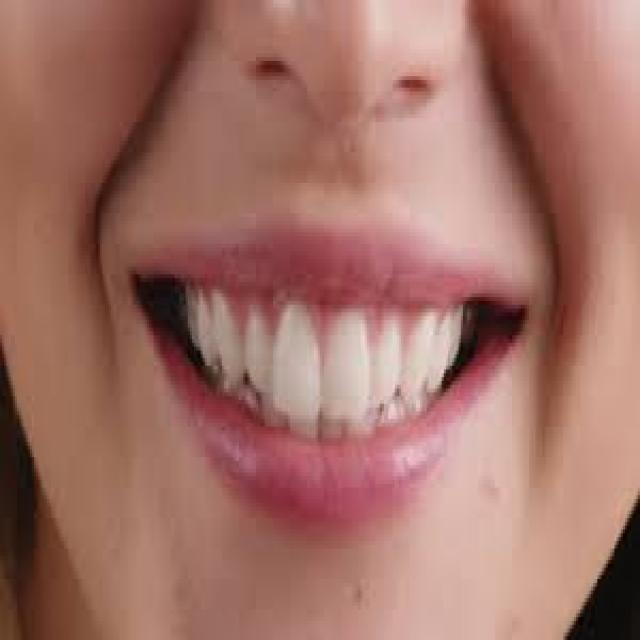tooth: (279, 305, 318, 415), (324, 312, 365, 416), (218, 282, 241, 381), (375, 312, 399, 400), (250, 316, 275, 389), (197, 282, 216, 369), (407, 312, 431, 378), (435, 320, 446, 385), (184, 286, 194, 350), (262, 392, 280, 427), (450, 312, 461, 366), (288, 419, 318, 438), (412, 385, 429, 415), (228, 388, 258, 404), (324, 419, 344, 442), (348, 419, 375, 431), (382, 408, 407, 419)
